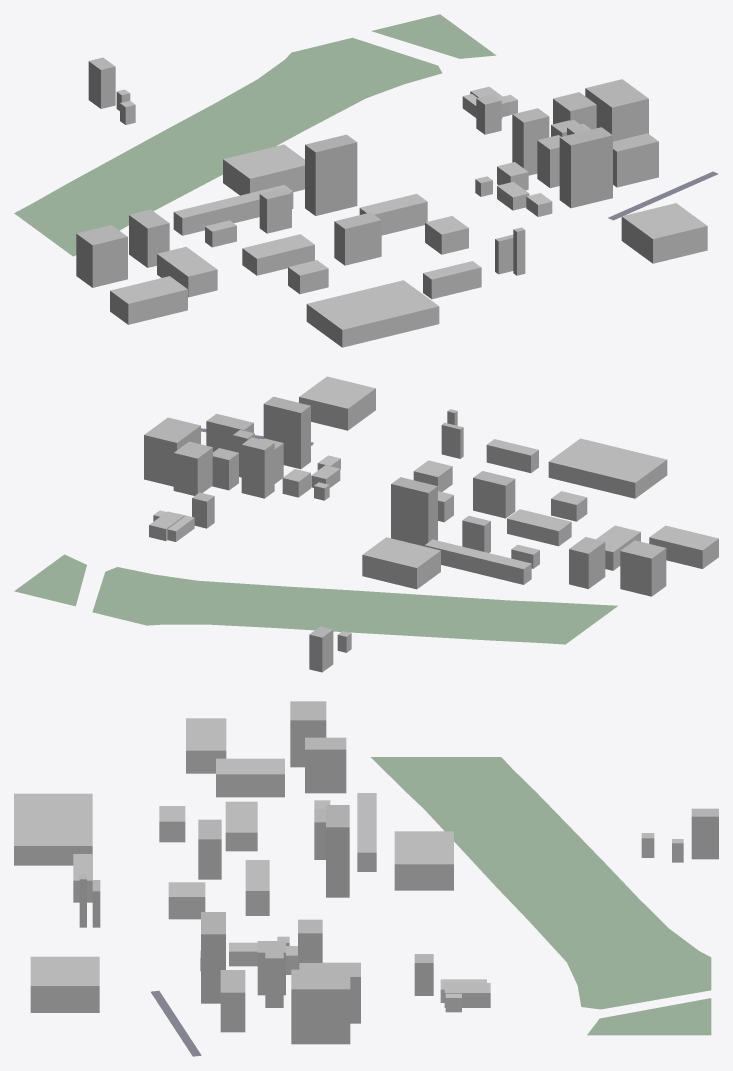
Rendered from 132_95_mid.glb.
The picture shows the model from 3 angles, top to bottom: view 1: azimuth 30°, elevation 25°; view 2: azimuth 150°, elevation 25°; view 3: azimuth 270°, elevation 25°; orthographic projection. The views are drawn at different scales.
Size of the model in its own units: 569 by 60.55 by 531.
